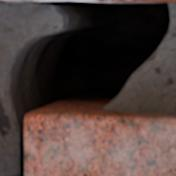brick: (25, 110, 175, 175), (84, 0, 139, 1), (4, 0, 34, 1), (156, 0, 175, 1)
crack: (2, 0, 173, 175)
